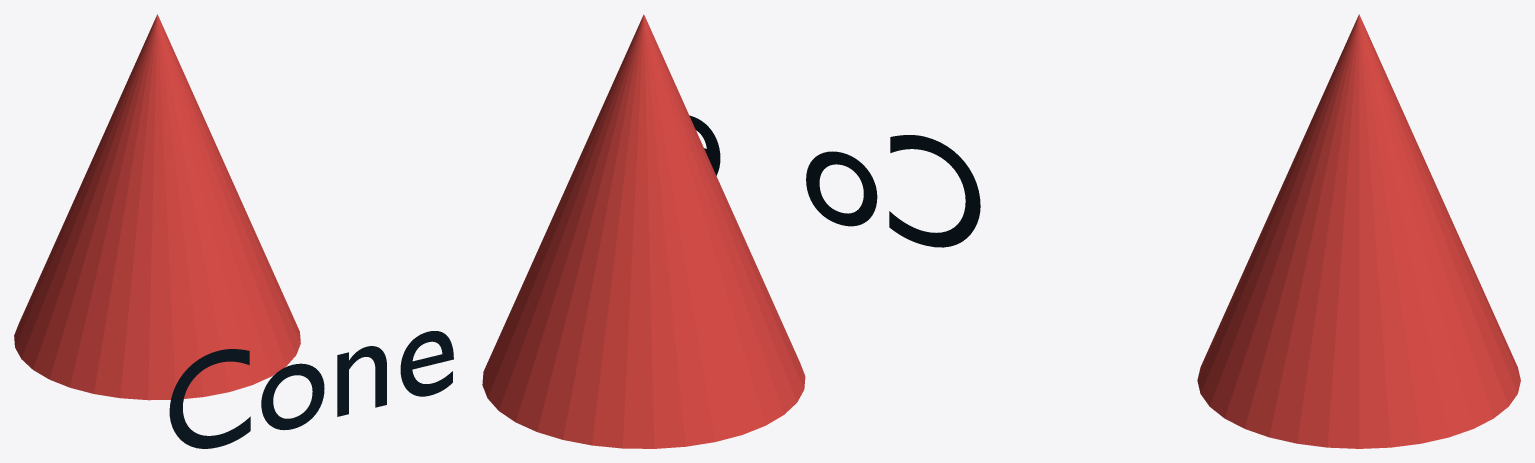
The picture shows the model from 3 angles, left to right: view 1: azimuth 30°, elevation 25°; view 2: azimuth 150°, elevation 25°; view 3: azimuth 270°, elevation 25°; orthographic projection. The views are drawn at different scales.
Parts seen in each view (by area): view 1: Cone, Text.001; view 2: Cone, Text.001; view 3: Cone.
Part boxes in pixels (x1,y1,x2,y2): Cone: (14, 14, 300, 400); Text.001: (169, 331, 453, 448); Cone: (482, 14, 805, 448); Text.001: (689, 115, 980, 247); Cone: (1197, 14, 1520, 448).
Size of the model in its own units: 0.2285 by 0.25 by 0.3164.
